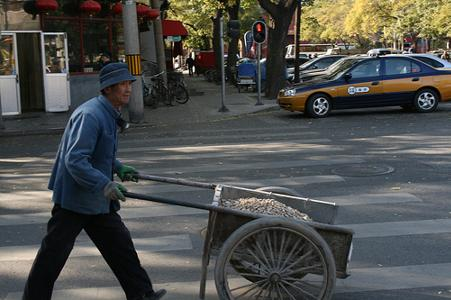person: (22, 63, 168, 300)
